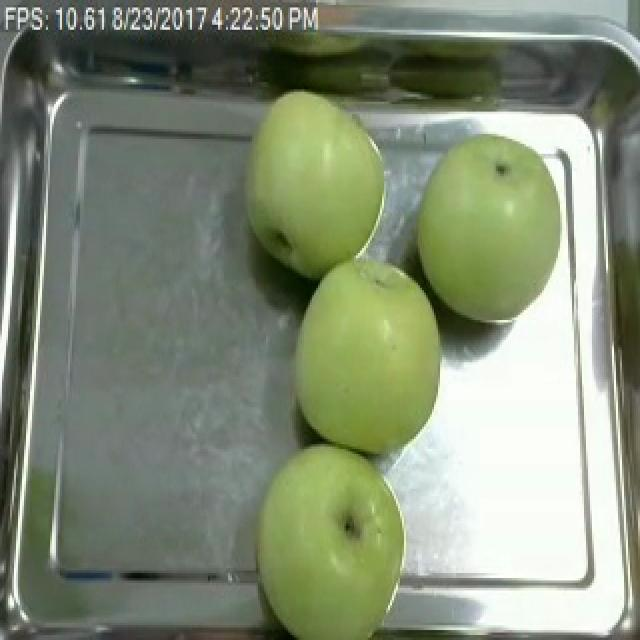50-_ripeness: (227, 439, 414, 633), (419, 120, 555, 353), (281, 258, 456, 437), (246, 85, 390, 278)
